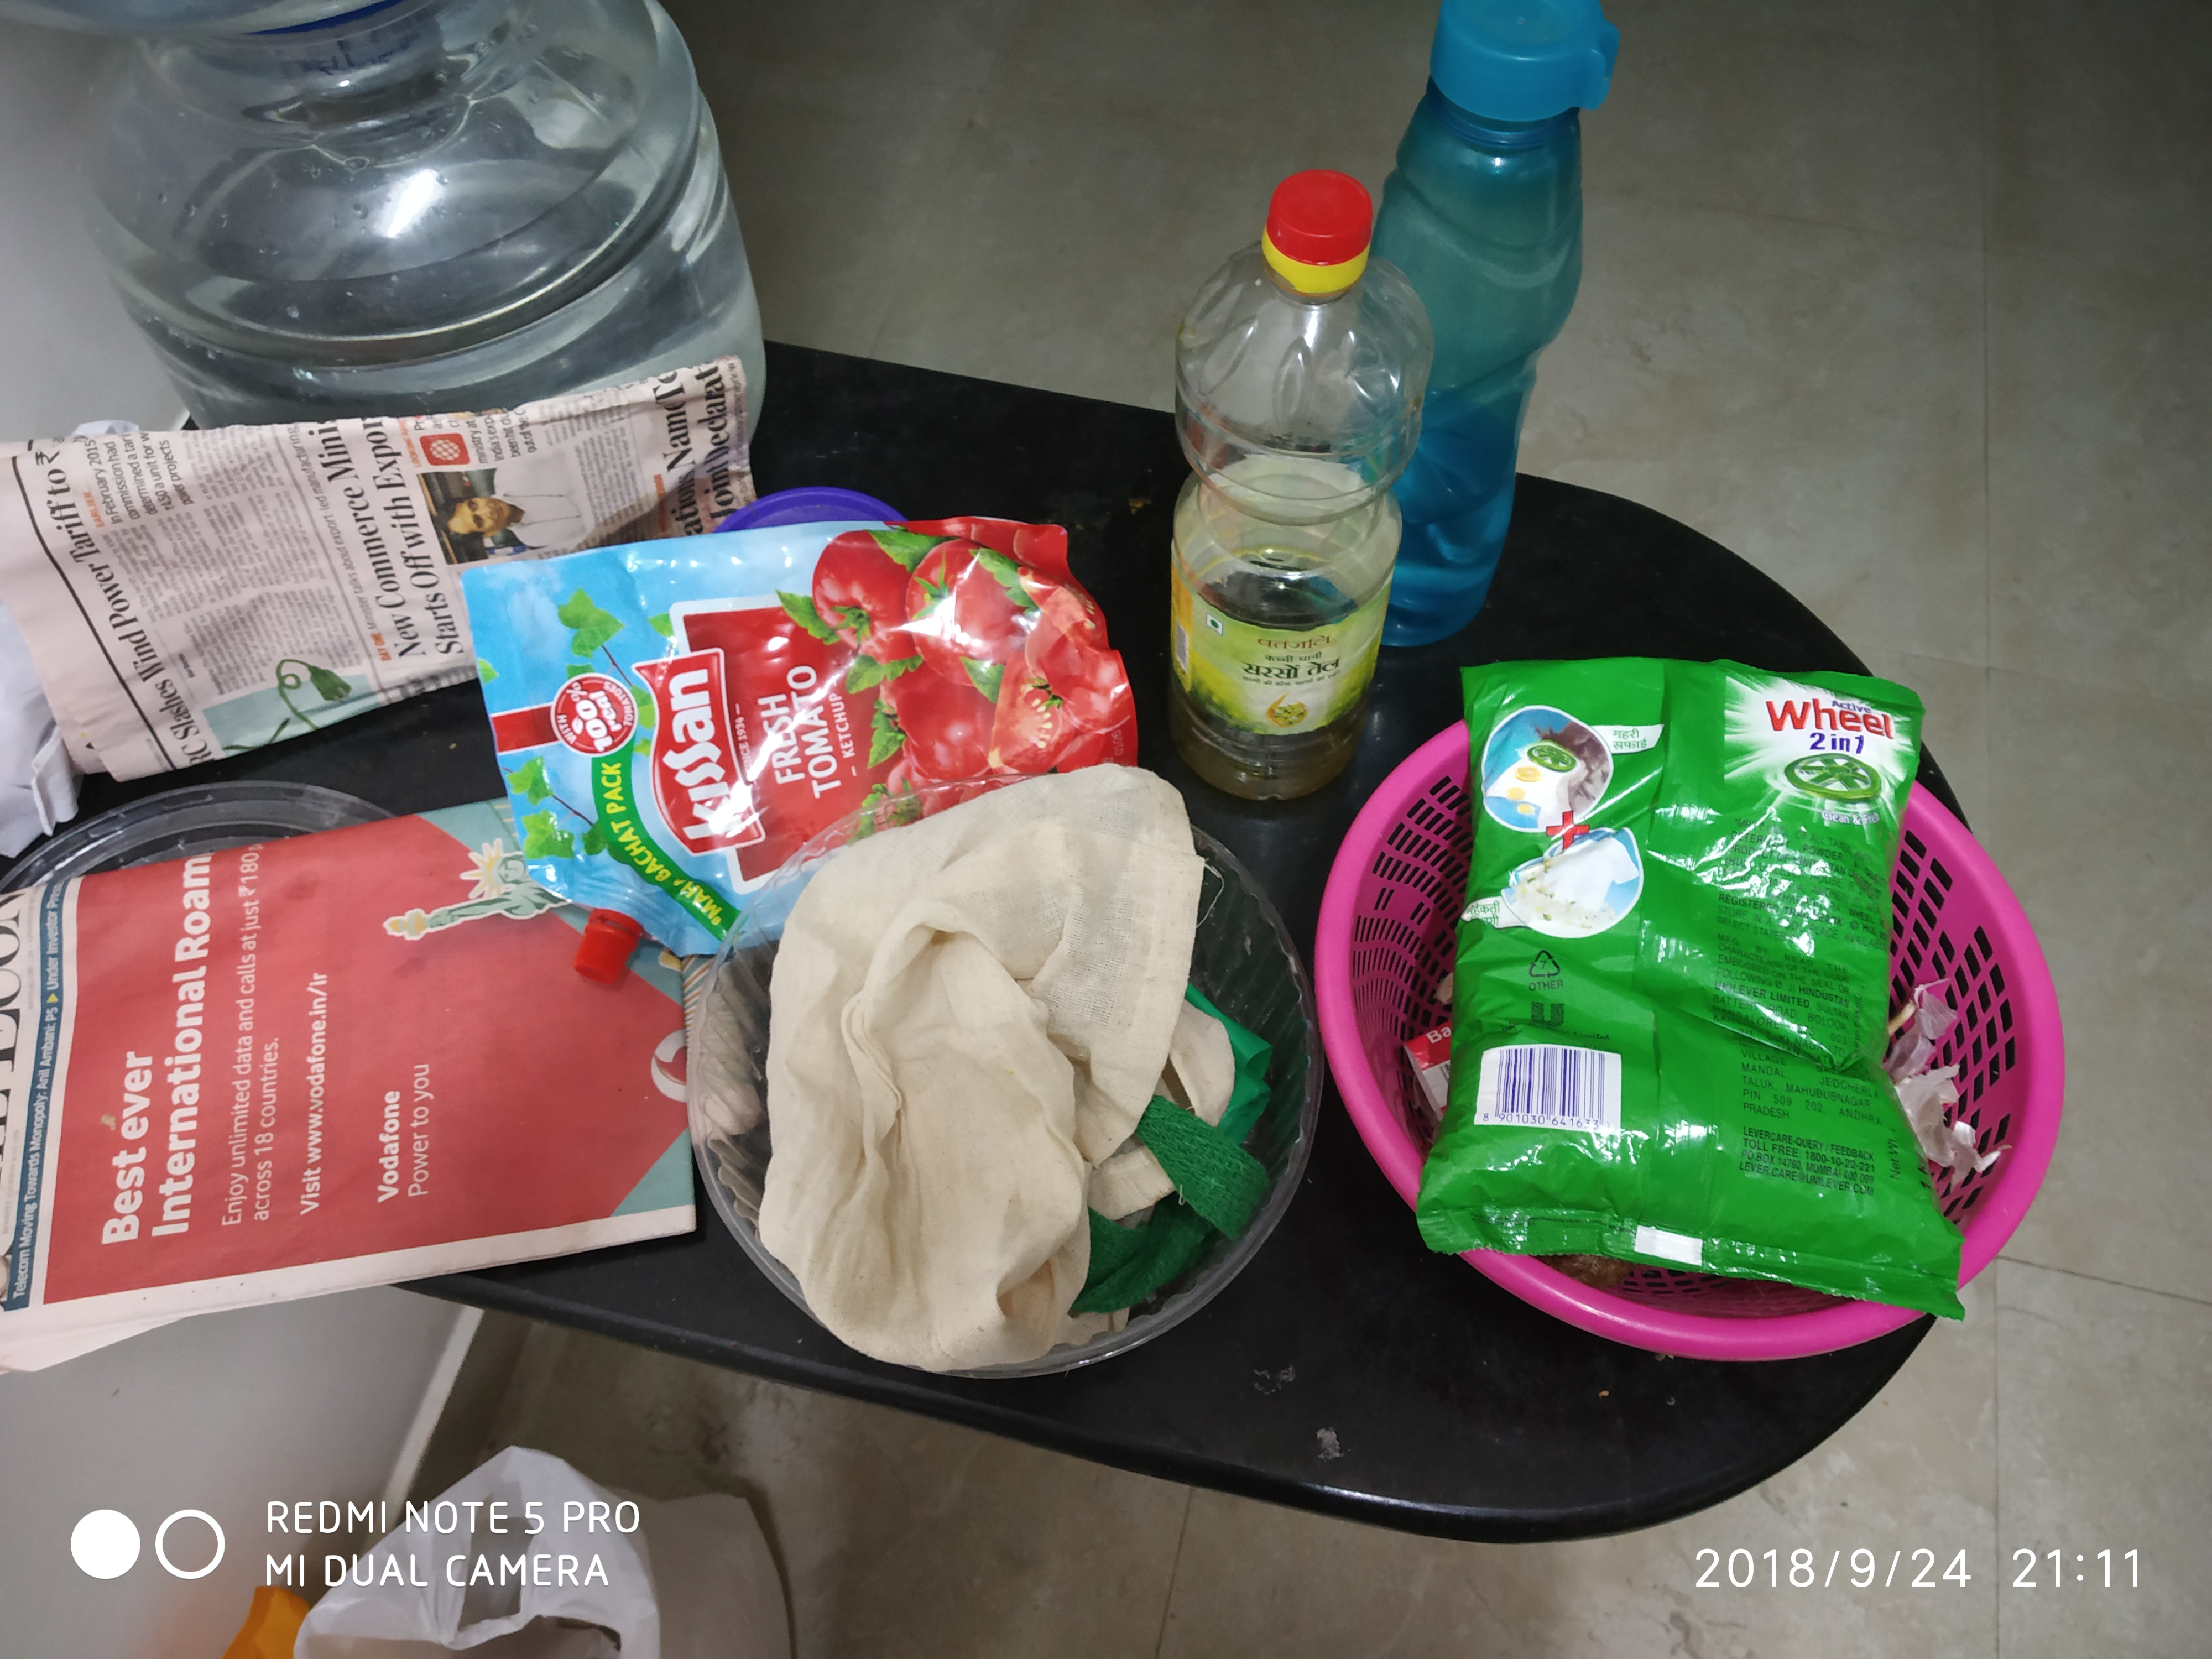detergent: (1418, 656, 1961, 1294)
